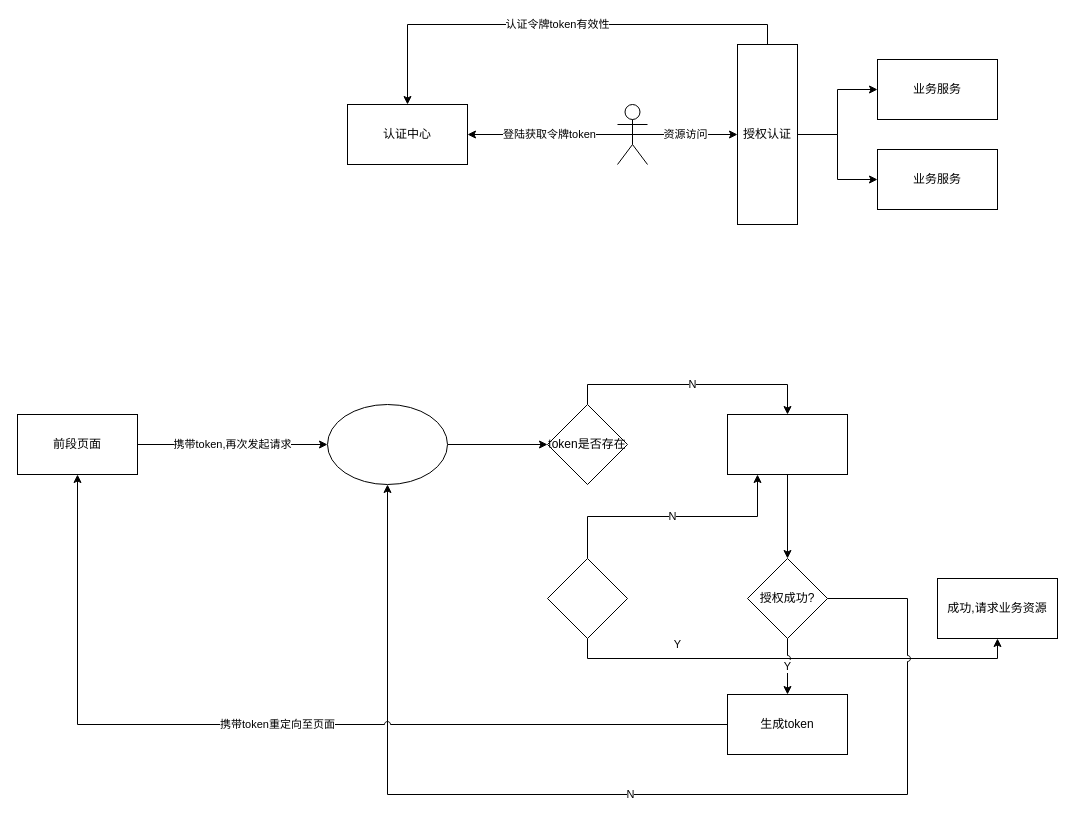
The diagram is 1075 pixels wide and 820 high, and some of its shapes have lost their labels. Here are the shapes that lost their labels. From the top down, the box of each, then its label:
(616, 104, 648, 164): Actor
(326, 404, 448, 484): 业务请求
(726, 414, 848, 474): 生成并重定向至授权页
(546, 558, 628, 638): token是否有效
